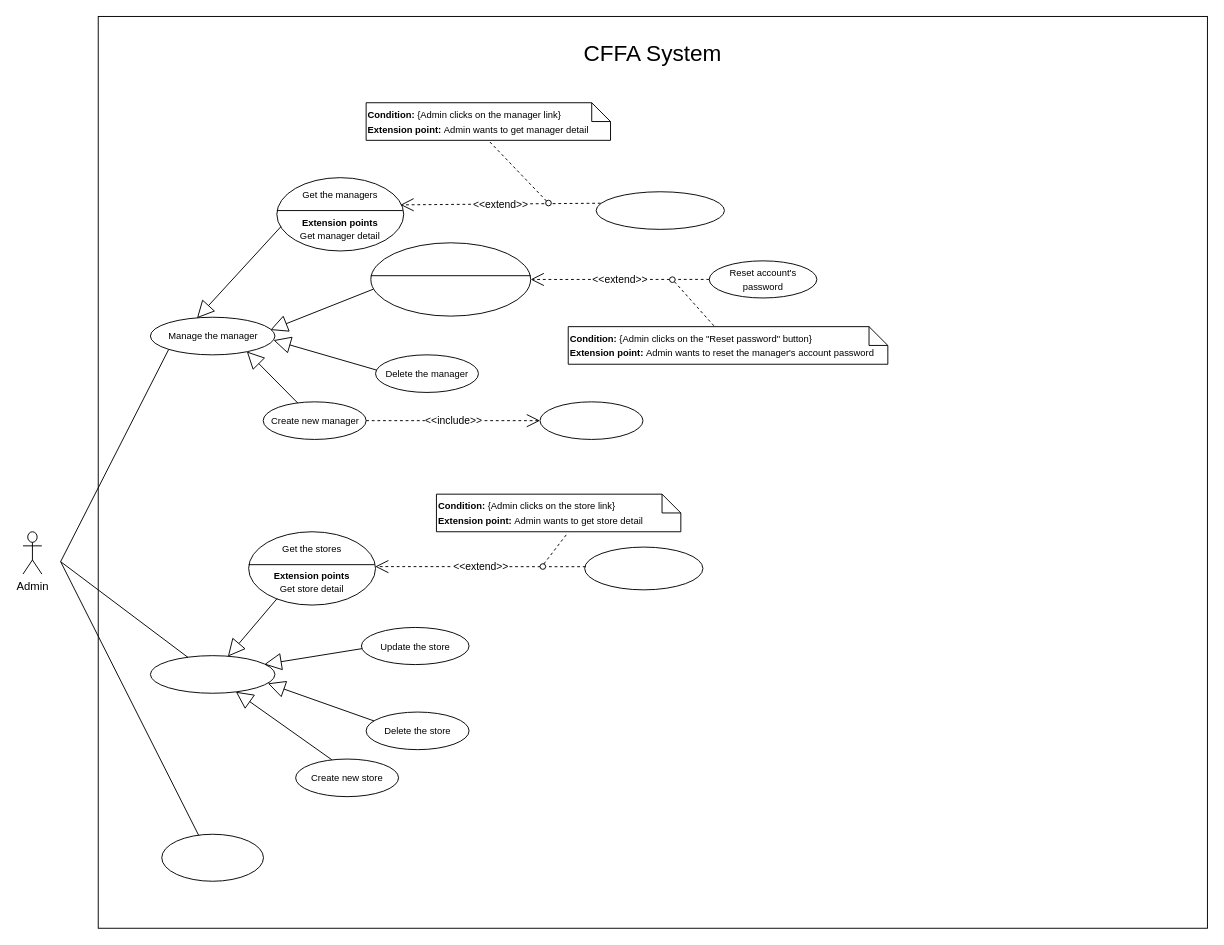
The diagram is 1224 pixels wide and 945 high, and some of its shapes have lost their labels. The shapes that lost their labels are listed below. From the top down, each one's box as (x1, y1, x2, y2) in pixels, then its label:
(595, 191, 724, 229): Get manager detail
(370, 242, 531, 316): Update the manager Extension points Reset account's password
(539, 401, 643, 439): Create new account
(584, 546, 703, 590): Get store detail
(149, 655, 275, 693): Manage the store
(161, 833, 263, 881): Send the mail to the manager
